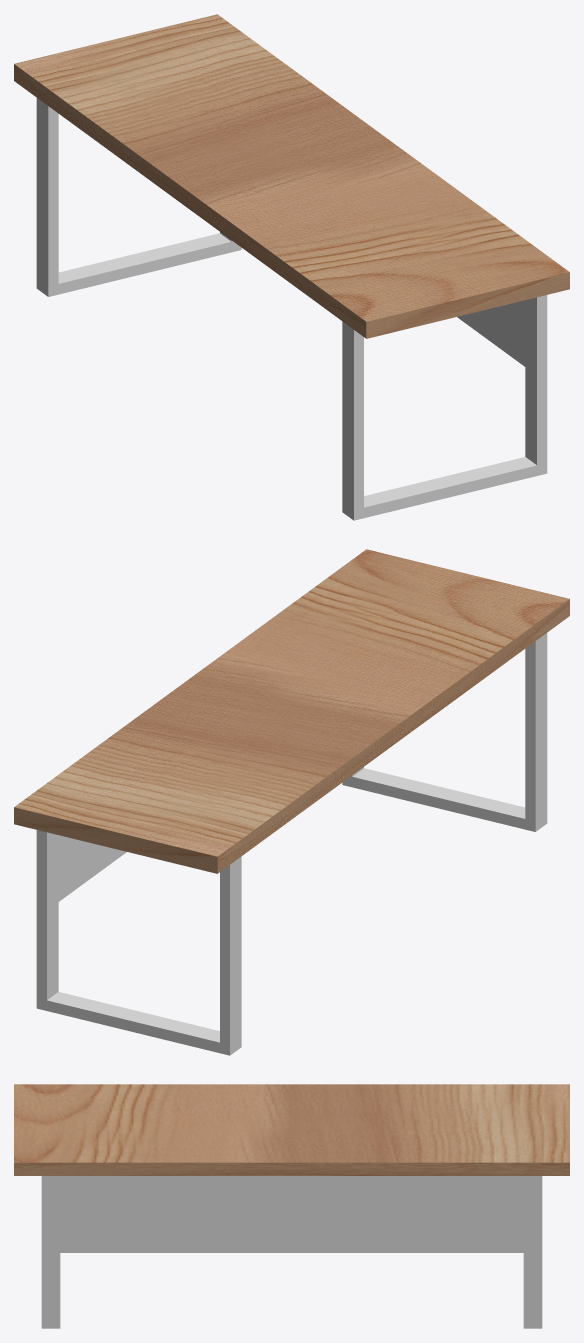
File: mesa.fbx
3 renders of one model, top to bottom at view 1: azimuth 30°, elevation 25°; view 2: azimuth 150°, elevation 25°; view 3: azimuth 270°, elevation 25°, orthographic. The views are drawn at different scales.
Visible parts, largest first — view 1: Table; view 2: Table; view 3: Table.
Boxes of the visible parts, box(x1,y1,x2,y2) form: Table: box(14, 14, 569, 520); Table: box(14, 549, 569, 1055); Table: box(14, 1084, 569, 1328).
Size of the model in its own units: 1 by 3 by 1.
